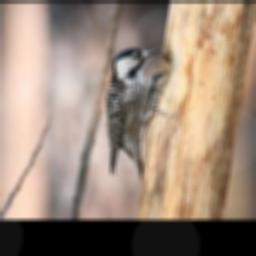Woodpecker: (107, 46, 169, 179)
